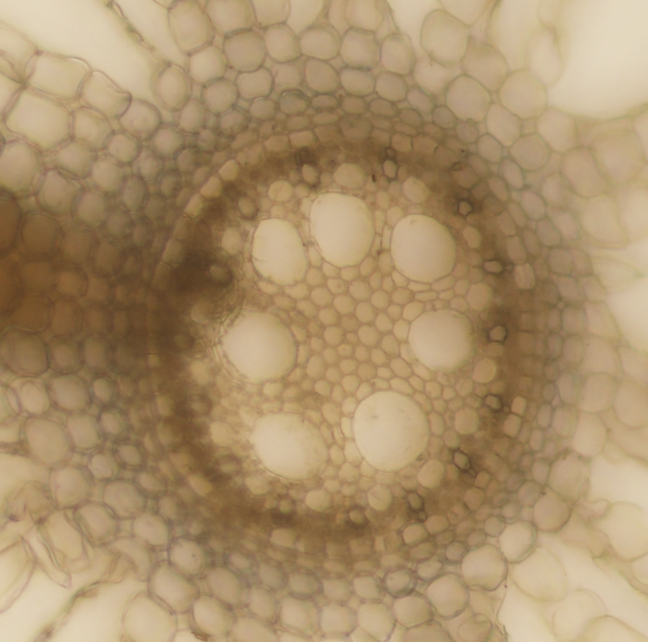lm: (353, 388, 432, 472), (219, 306, 299, 383), (247, 409, 329, 482), (309, 190, 375, 269), (391, 214, 458, 285), (409, 309, 476, 374), (249, 217, 308, 285)
